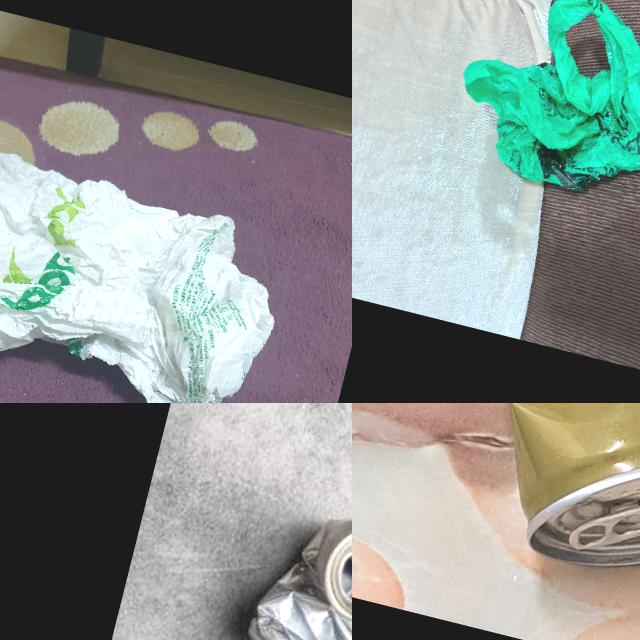aba de lata: (567, 488, 640, 569)
lata: (352, 403, 640, 600), (226, 494, 352, 640)
sacola plástica: (0, 104, 297, 403), (486, 6, 640, 244)
